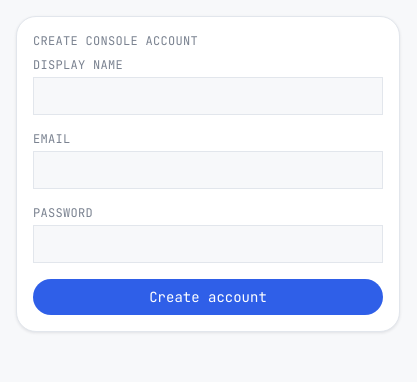
Test: RegisterForm › blocks submit when password is too short (client check)
This screenshot has width=417, height=382.
Type "X" into the field labelled "Display Name". click: {"x": 208, "y": 96}
box: [33,77,383,115]
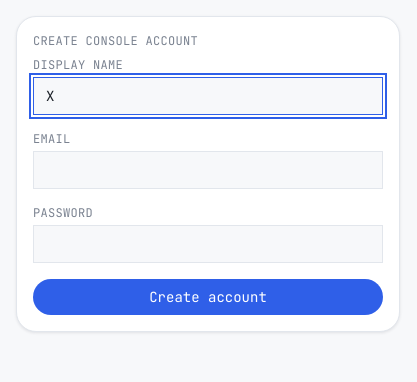
Type "x@x.com" into the field labelled "Email". click: {"x": 208, "y": 170}
box: [33,151,383,189]
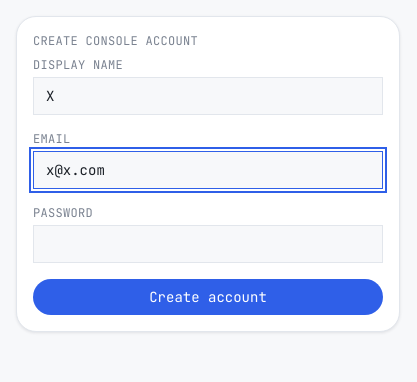
Type "short" into the password field labelled "Password". click: {"x": 208, "y": 244}
box: [33,225,383,263]
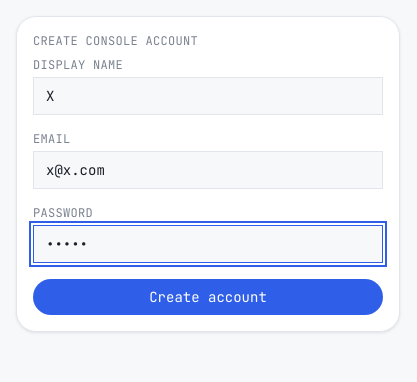
Click the button "Create account". click: {"x": 208, "y": 297}
box: [33,279,383,315]
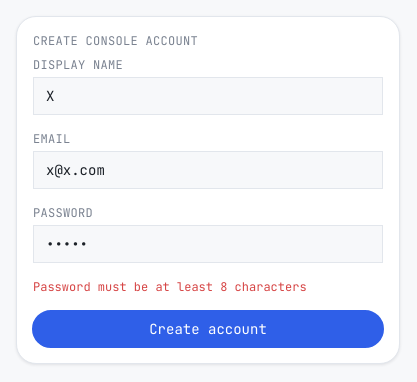
Now the text "Password must be at least 8 characters" is shown, box [33,279,307,295]
